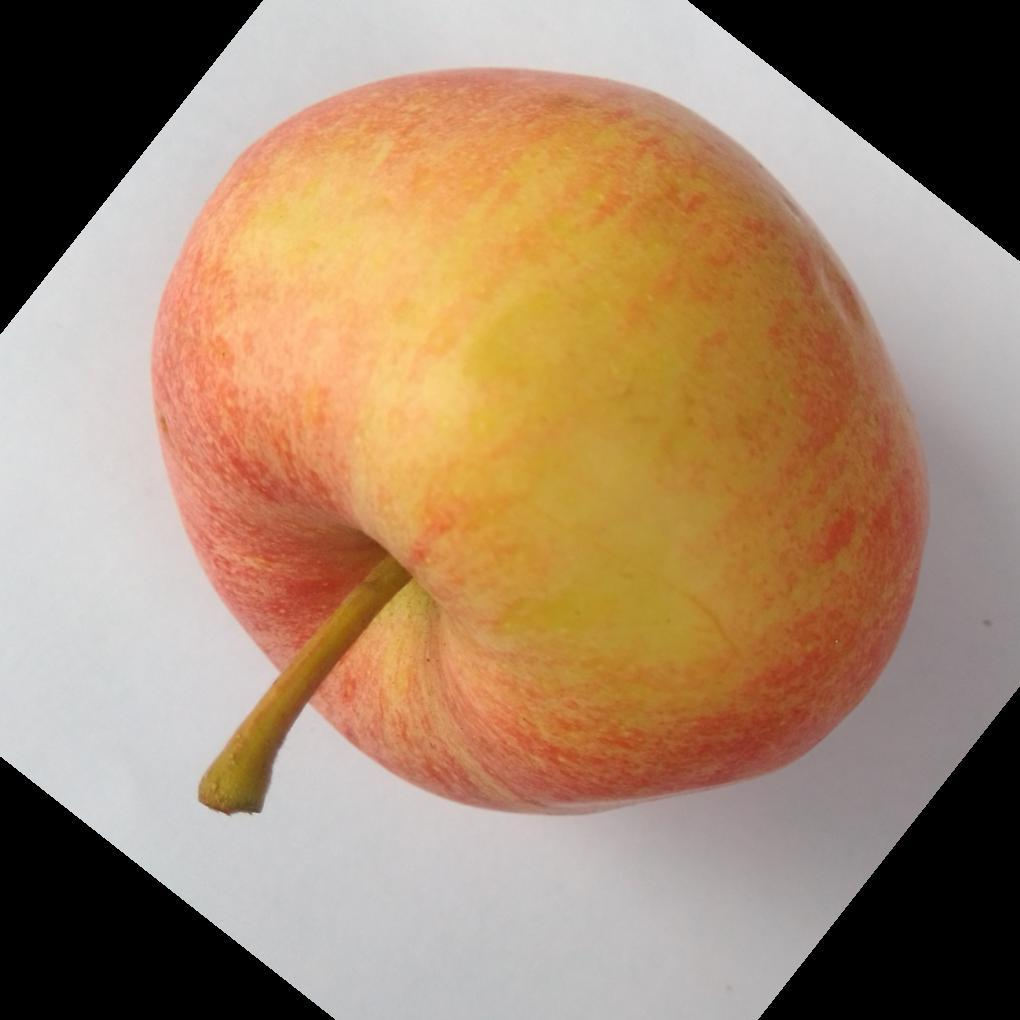FreshGuava: (147, 68, 931, 819)
